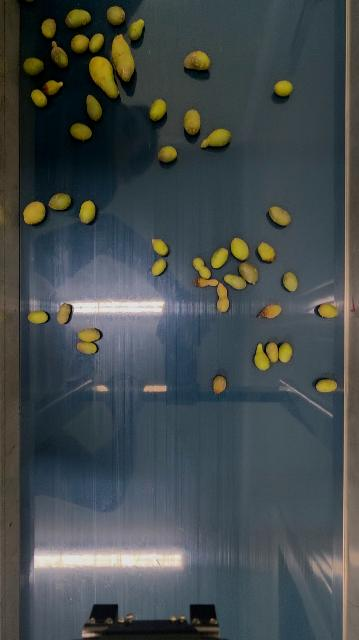Baby Potato: (87, 55, 123, 100), (108, 34, 137, 82), (200, 127, 232, 150), (183, 49, 212, 72), (23, 200, 46, 226), (64, 8, 92, 29), (183, 108, 202, 136), (269, 204, 292, 227), (85, 93, 103, 122), (230, 236, 250, 262), (238, 261, 260, 284), (78, 199, 97, 225), (22, 56, 45, 77), (49, 45, 70, 68), (254, 342, 270, 372), (216, 282, 231, 313), (69, 33, 90, 55), (318, 301, 341, 321), (149, 98, 168, 122), (70, 122, 93, 141), (49, 192, 72, 211), (77, 326, 102, 343), (106, 5, 126, 26), (157, 144, 179, 163), (257, 241, 276, 263), (193, 257, 212, 279), (211, 247, 230, 269), (259, 302, 283, 319), (224, 273, 248, 290), (128, 18, 145, 40), (89, 31, 105, 54), (283, 270, 299, 293), (76, 340, 100, 355), (265, 341, 280, 365), (43, 79, 64, 96), (40, 18, 57, 39), (316, 377, 338, 393), (57, 302, 72, 325), (274, 79, 293, 97), (30, 89, 48, 108), (27, 310, 49, 325), (279, 341, 293, 363), (152, 238, 169, 256), (212, 374, 227, 394), (152, 258, 168, 276), (194, 277, 218, 287)
